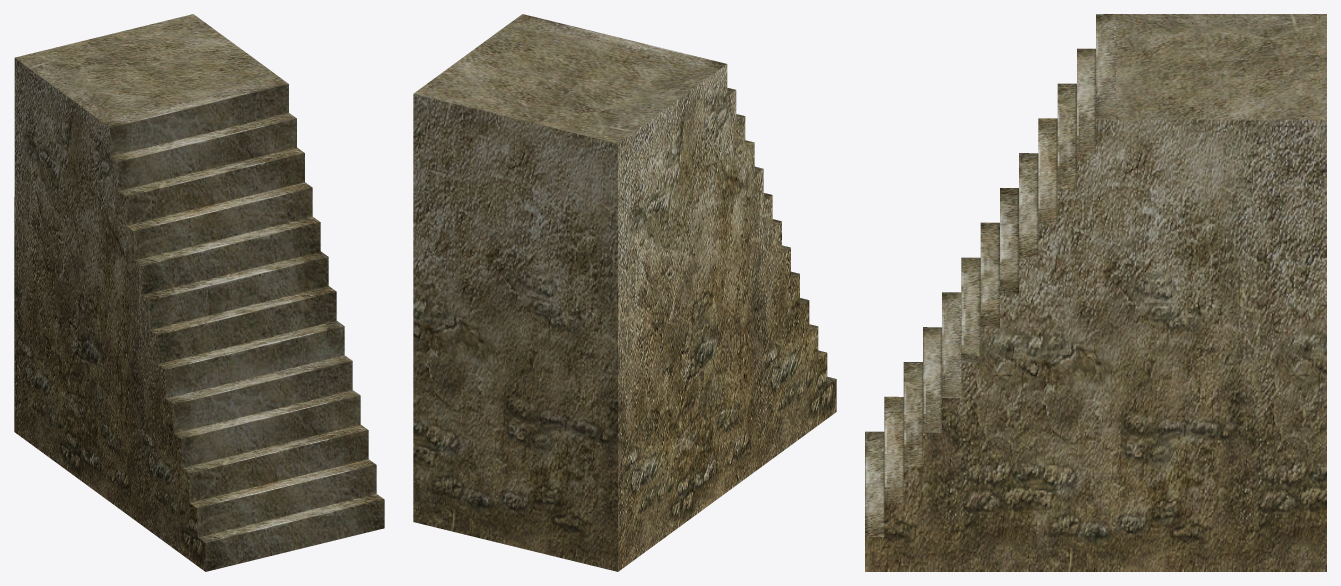
File: hrt_ladder5.glb
The picture shows the model from 3 angles, left to right: view 1: azimuth 30°, elevation 25°; view 2: azimuth 150°, elevation 25°; view 3: azimuth 270°, elevation 25°; orthographic projection. The views are drawn at different scales.
Parts seen in each view (by area): view 1: hrt_ladder5; view 2: hrt_ladder5; view 3: hrt_ladder5.
Part boxes in pixels (x1,y1,x2,y2): hrt_ladder5: [14, 14, 384, 571]; hrt_ladder5: [413, 14, 836, 571]; hrt_ladder5: [865, 14, 1326, 571].
Bounding box in the file's own units: 2 × 4 × 3.7.
4 materials, 4 textured.
